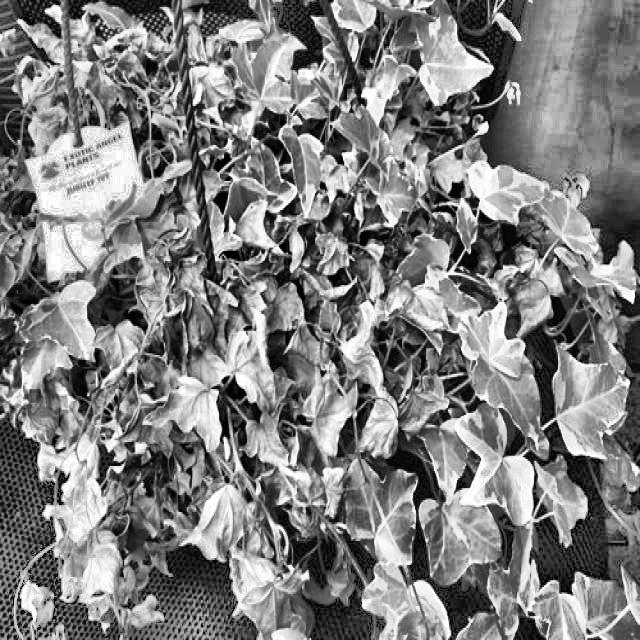plants: (4, 16, 578, 638)
